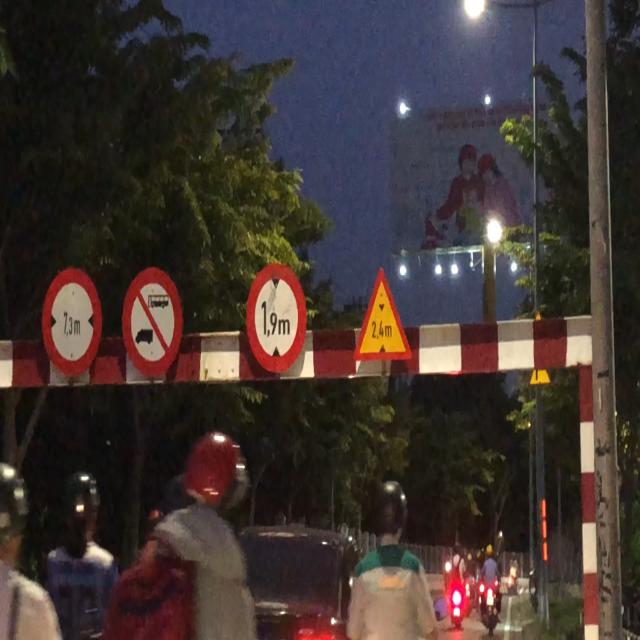Bien bao cam xe oto khach va xe oto tai: (120, 260, 190, 390)
Bien bao chieu cao tinh khong thuc te: (349, 262, 414, 371)
Bien bao han che chieu cao: (241, 256, 306, 369)
